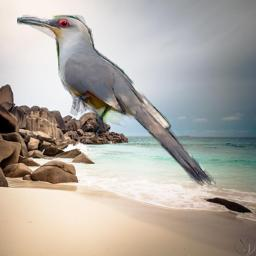Cuckoo: (17, 14, 216, 190)
